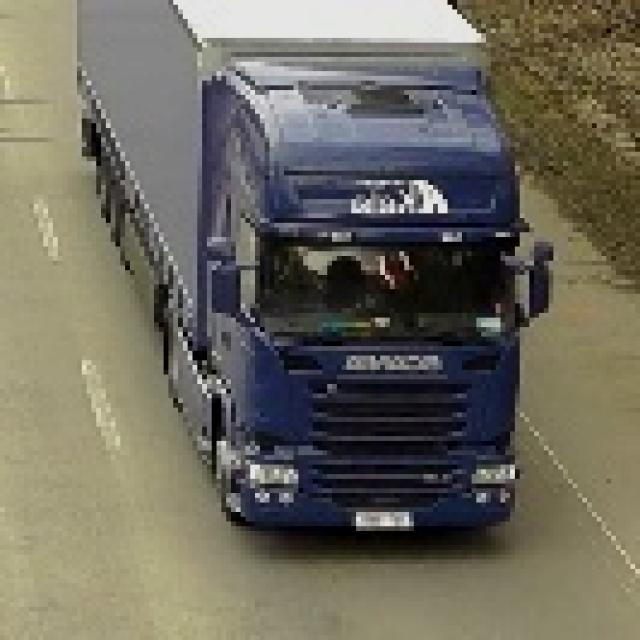TRUCK: (155, 0, 538, 537)
